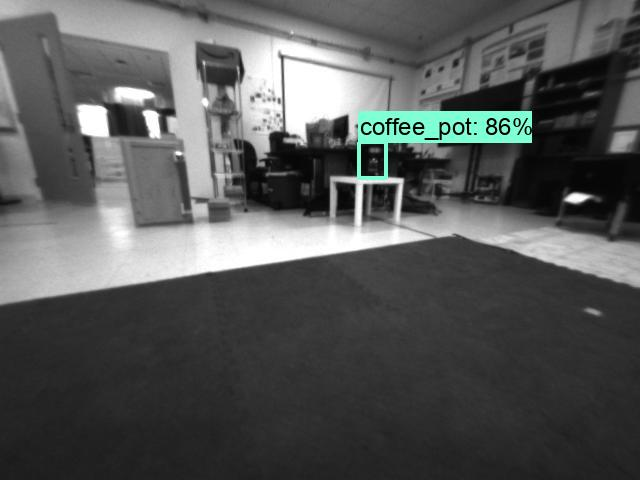coffee_pot: (360, 143, 385, 176)
